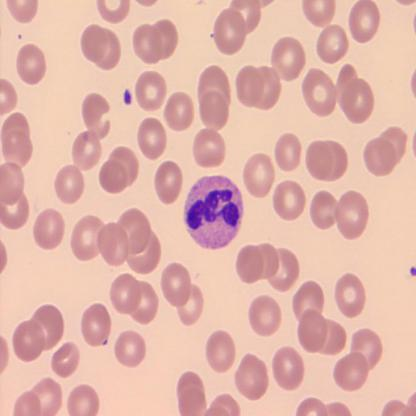Segmented neutrophil: (181, 173, 245, 252)
